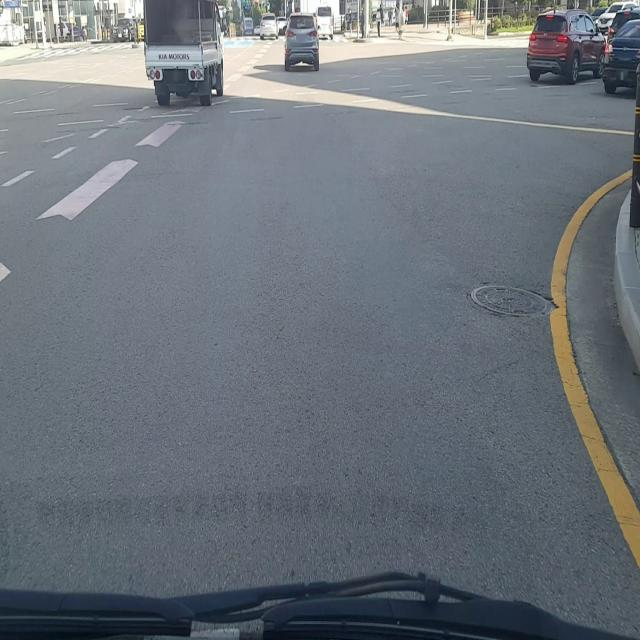Pothole: (468, 284, 558, 318)
